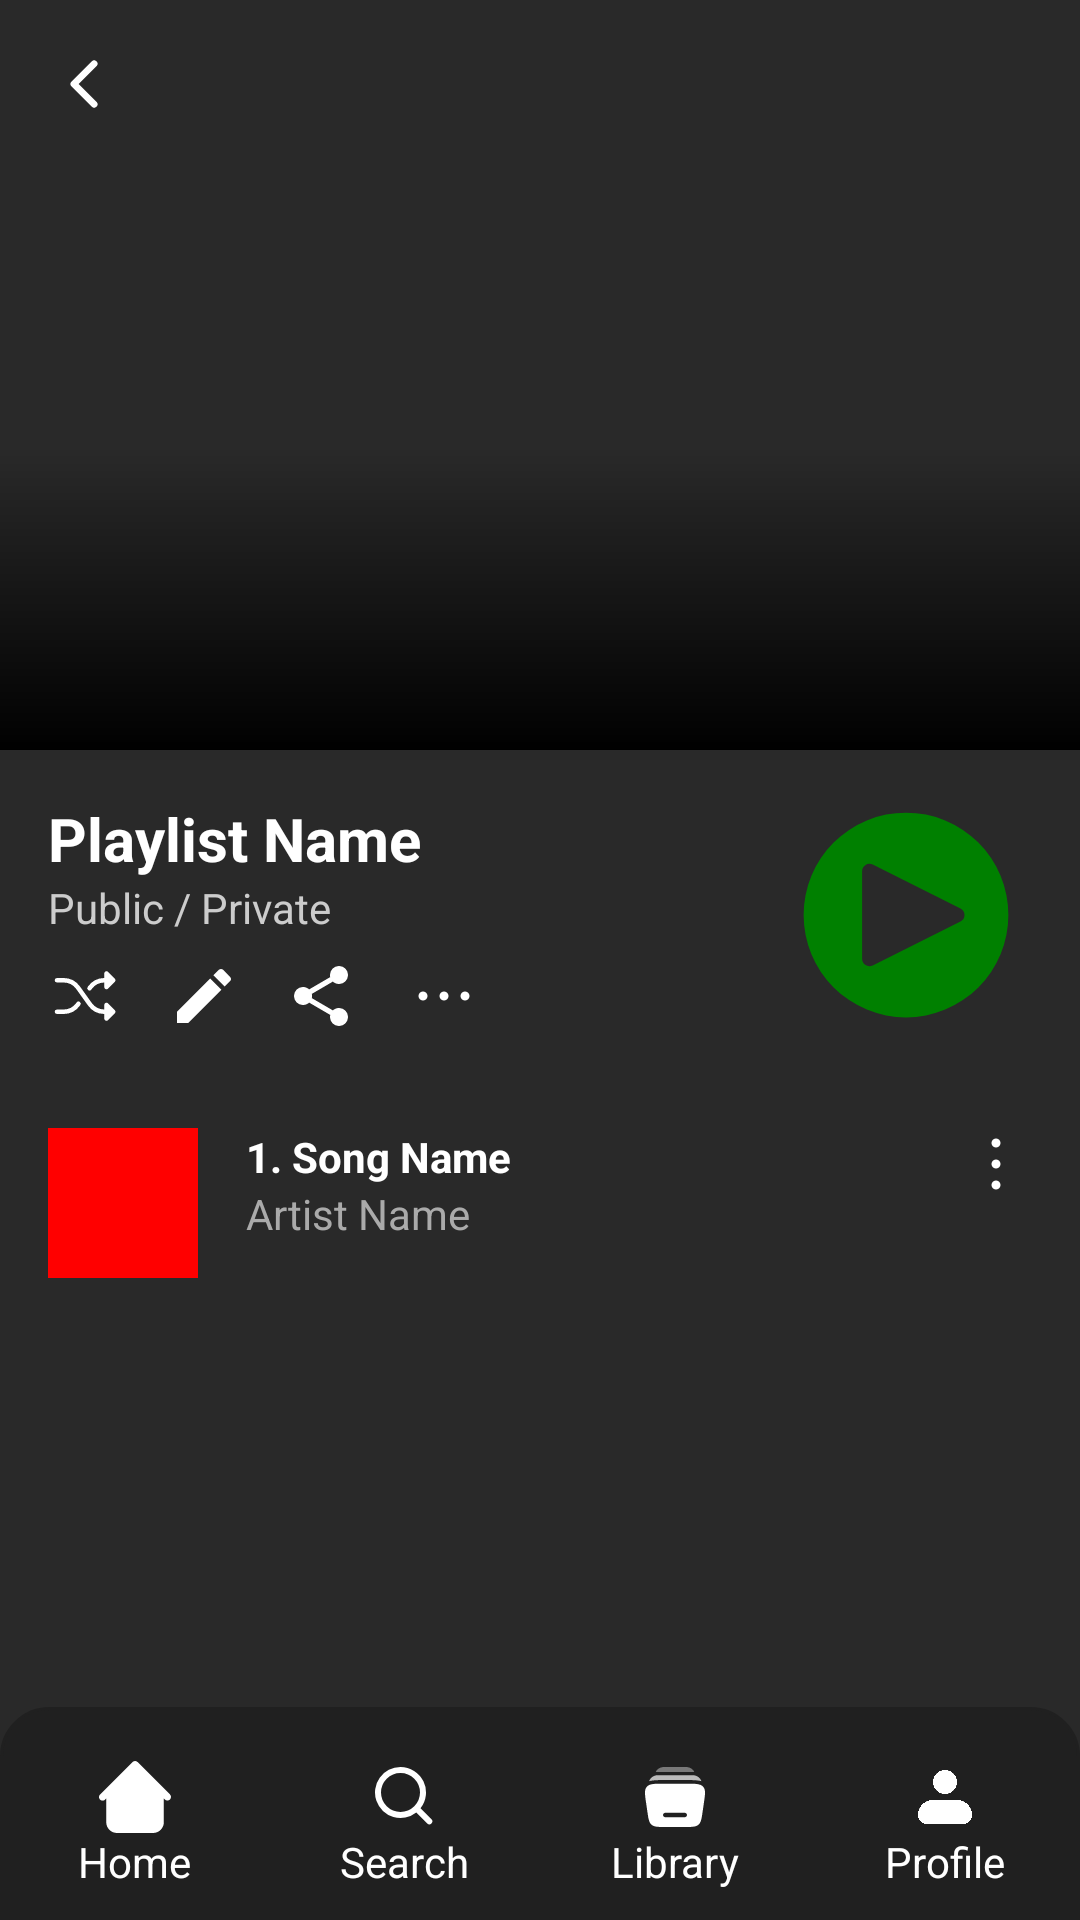

Named icons in this screenshot (1080*1920) and their centers, point (x, y):
back: point (84, 84)
edit: point (204, 996)
play: point (906, 915)
share: point (321, 996)
shuffle: point (85, 996)
